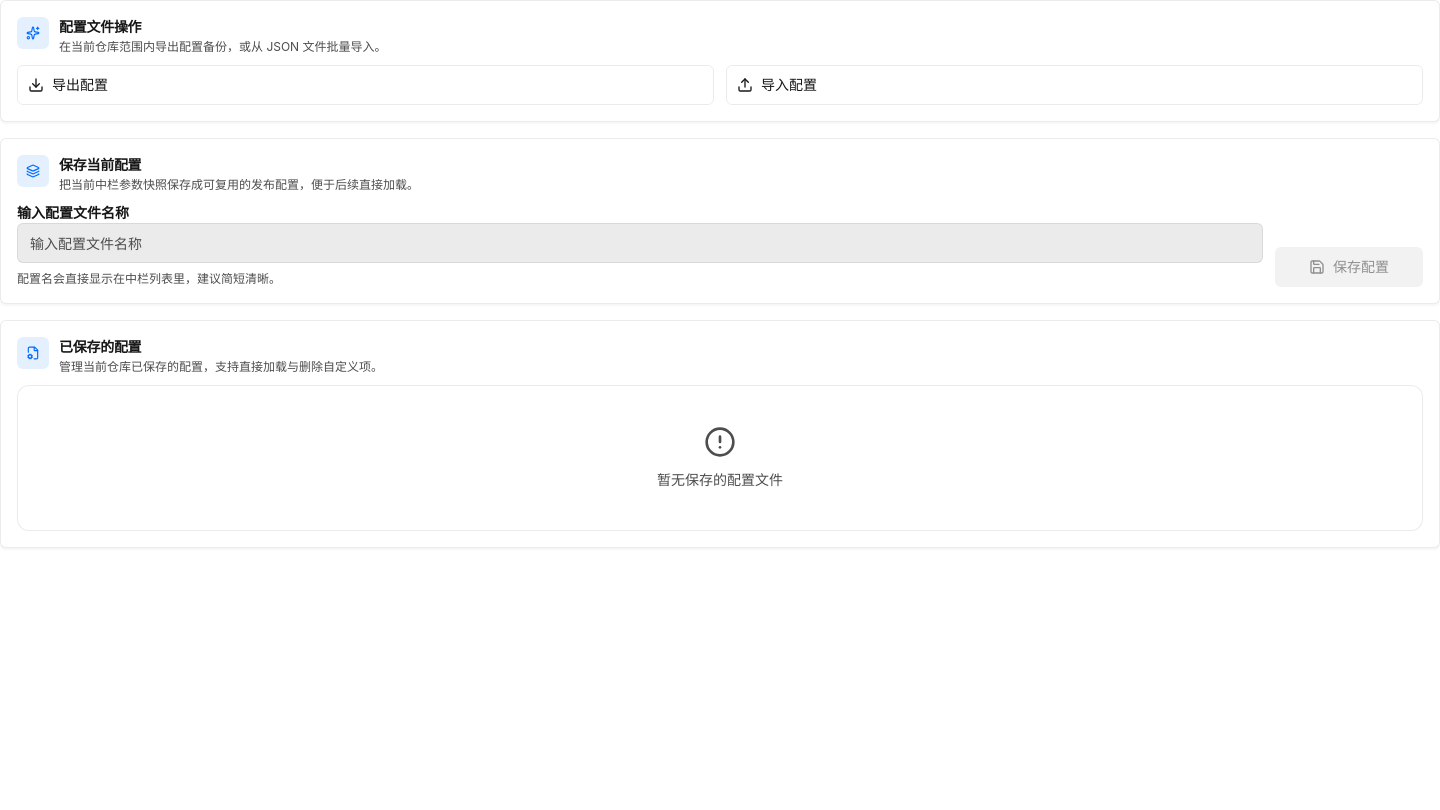
Test: ConfigManagementContent › 确认文案如实说明同名跳过、不覆盖
The width and height of the screenshot is (1440, 810).
Step 1. Click the button "导入配置" → (789,84), box [726,65,1423,105]
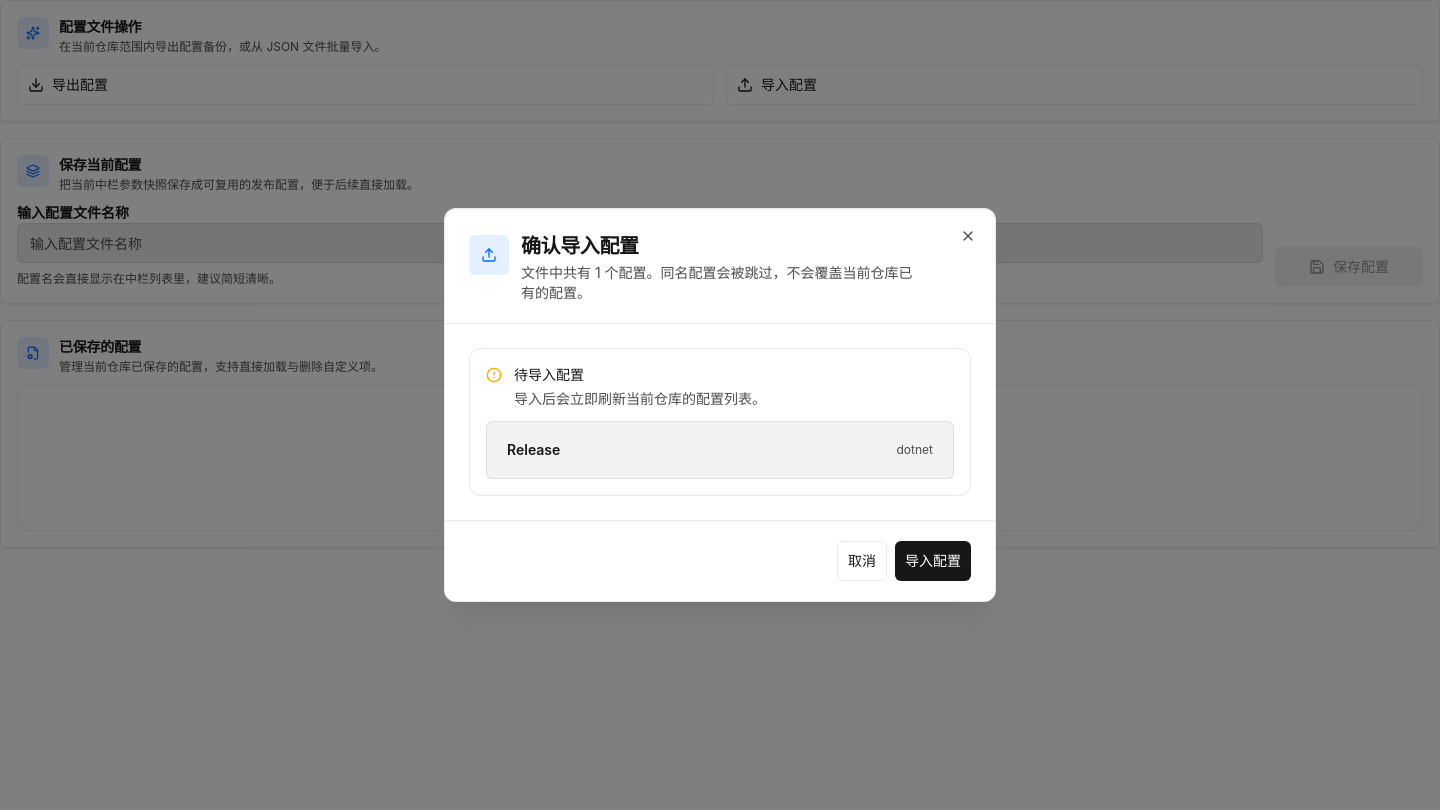
Expected: the heading "确认导入配置" is shown, [521,234,639,258]
Expected: the text "文件中共有 1 个配置。同名配置会被跳过，不会覆盖当前仓库已有的配置。" is shown, [521,263,931,303]
